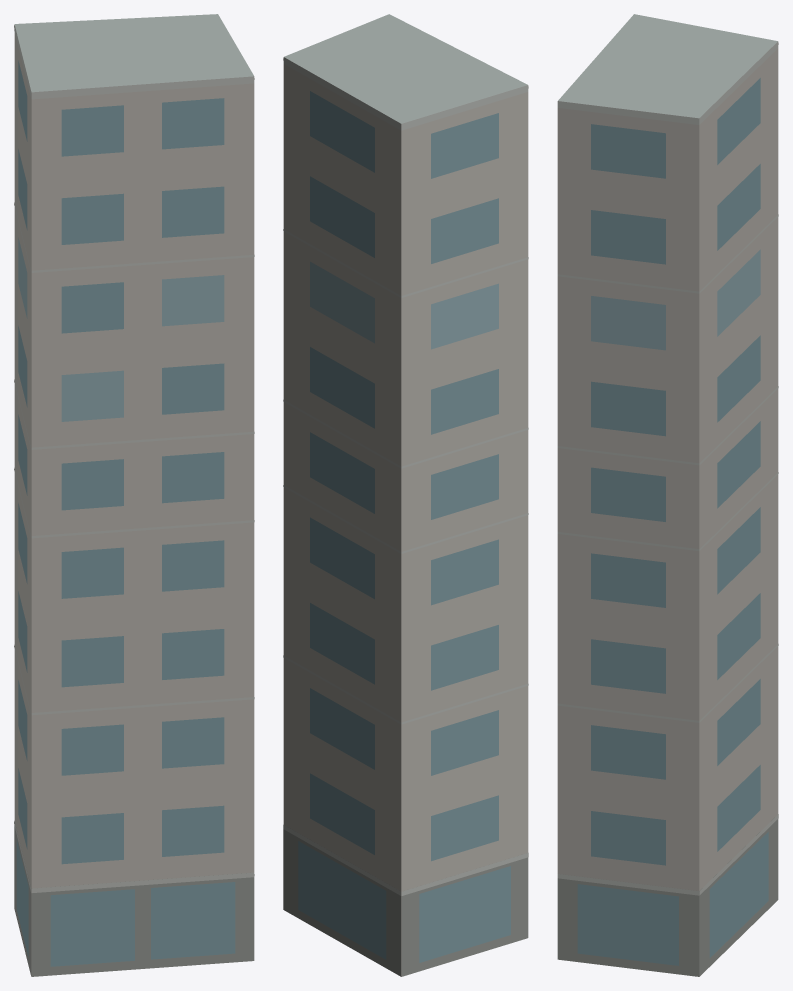
The model's file is survey-upis-32511572.glb.
3 renders of one model, left to right at view 1: azimuth 30°, elevation 25°; view 2: azimuth 150°, elevation 25°; view 3: azimuth 270°, elevation 25°, orthographic. The views are drawn at different scales.
Visible parts, largest first — view 1: survey-upis-32511572.tmp; view 2: survey-upis-32511572.tmp; view 3: survey-upis-32511572.tmp.
Boxes of the visible parts, x1=… form: survey-upis-32511572.tmp: x1=14, y1=14, x2=254, y2=976; survey-upis-32511572.tmp: x1=283, y1=14, x2=528, y2=976; survey-upis-32511572.tmp: x1=557, y1=14, x2=778, y2=976.
Bounding box in the file's own units: 7.97 × 30.5 × 7.13.
